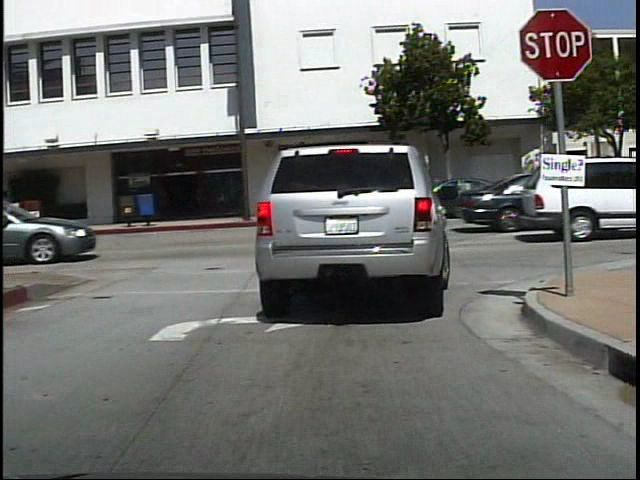person: (5, 184, 24, 230)
